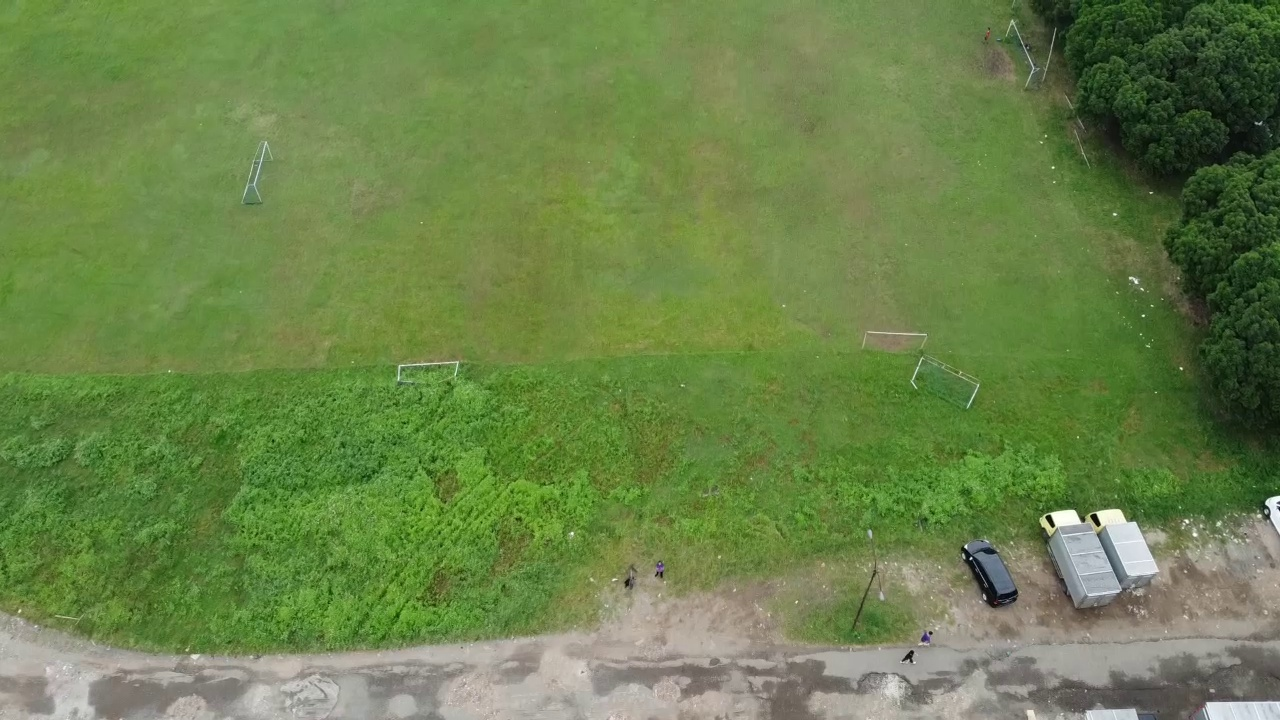mobil: (956, 535, 1025, 612)
